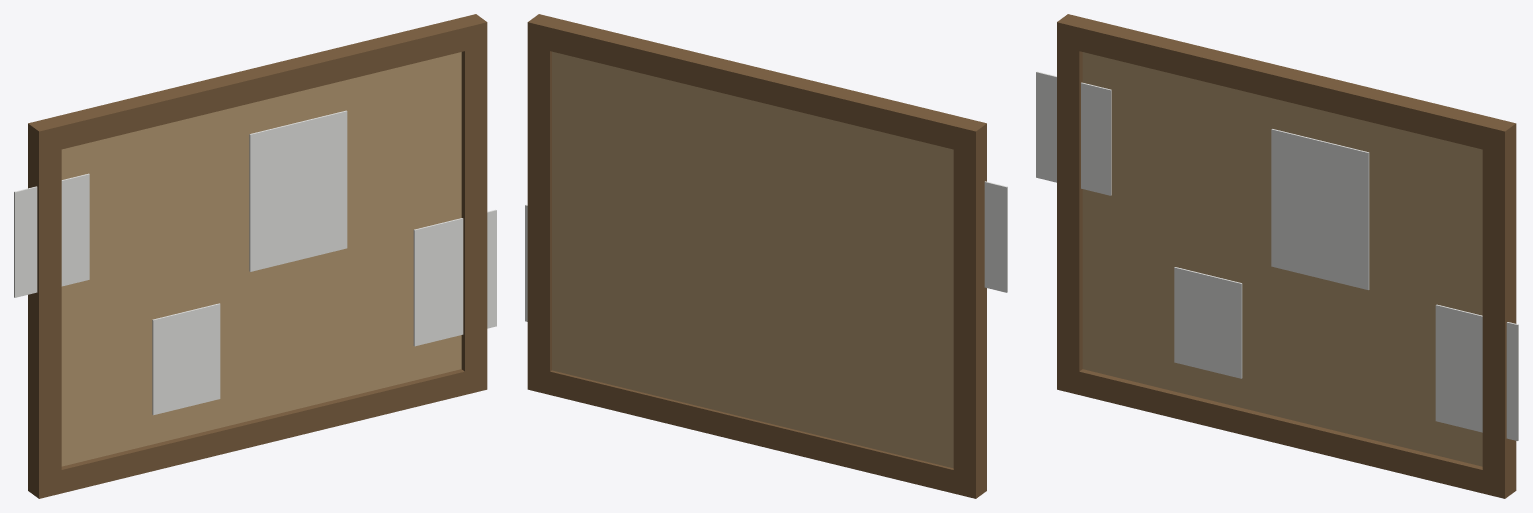
File: notice_board_cork.glb
3 renders of one model, left to right at view 1: azimuth 30°, elevation 25°; view 2: azimuth 150°, elevation 25°; view 3: azimuth 330°, elevation 25°, orthographic.
Parts seen in each view (by area): view 1: Notice Board Cork; view 2: Notice Board Cork; view 3: Notice Board Cork.
Part boxes in pixels (x1,y1,x2,y2): Notice Board Cork: (14, 14, 496, 498); Notice Board Cork: (525, 14, 1007, 498); Notice Board Cork: (1036, 14, 1518, 498).
Bounding box in the file's own units: 0.645 × 0.47 × 0.026.
